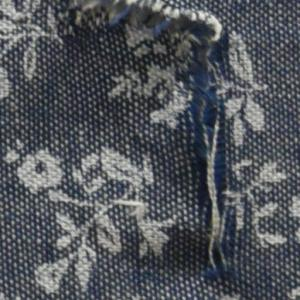Damage: (59, 1, 267, 286)
